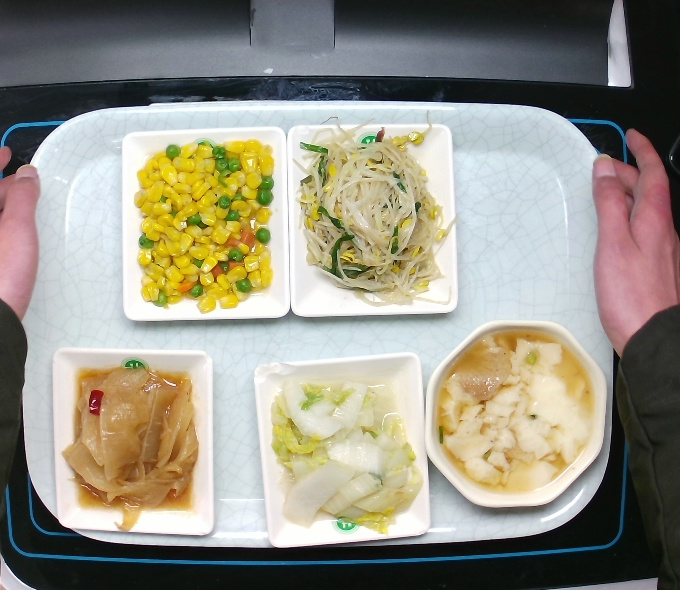wcq-DaBaiCai: (266, 375, 426, 540)
wcq-DongGua: (58, 365, 204, 534)
wcq-DouYa: (290, 105, 460, 311)
wcq-ShuiZhengDan: (434, 326, 596, 496)
wcq-TianMiTianDou: (131, 136, 279, 316)
